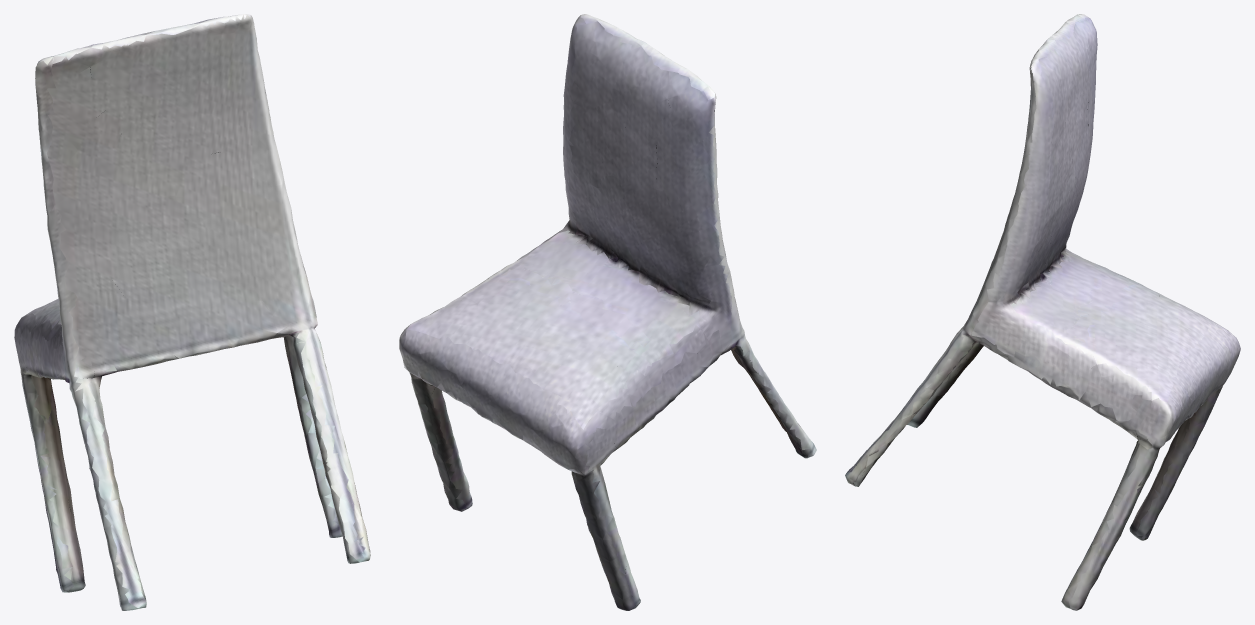
3 views of the same model, side by side, from view 1: azimuth 30°, elevation 25°; view 2: azimuth 150°, elevation 25°; view 3: azimuth 270°, elevation 25° (orthographic). The views are drawn at different scales.
Visible parts, largest first — view 1: world; view 2: world; view 3: world.
Part boxes in pixels (x1,y1,x2,y2): world: (14,14,370,610); world: (399,14,816,610); world: (845,14,1240,610).
Size of the model in its own units: 0.5938 by 1.05 by 0.73.
1 material, 1 textured.
